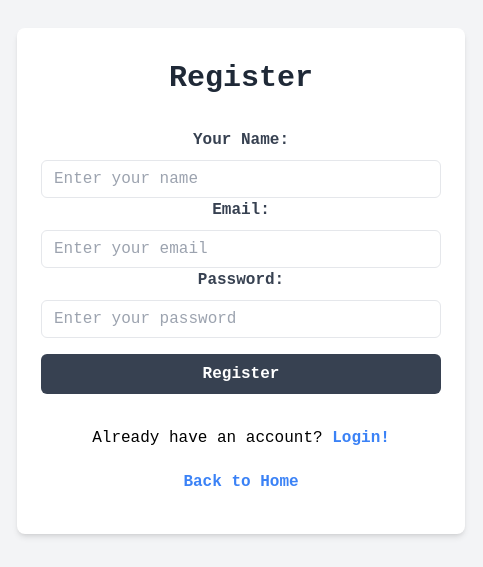
Test: Recipe_Finder › SignupForm › signup with existing email
The width and height of the screenshot is (483, 567).
Type "John Doe" into the field named "name".
click(241, 179); type("John Doe")  # box [41,160,441,198]
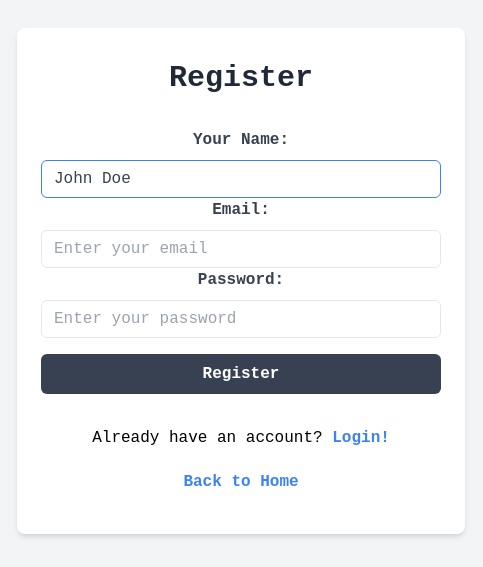
Type "john@example.com" into the field named "email".
click(241, 249); type("john@example.com")  # box [41,230,441,268]
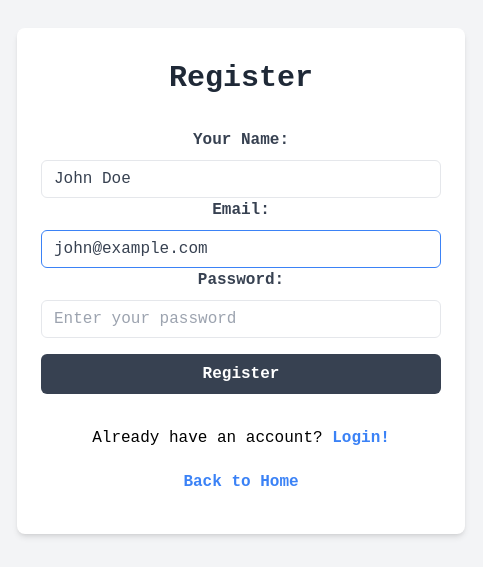
Type "password123" into the password field named "password".
click(241, 319); type("password123")  # box [41,300,441,338]
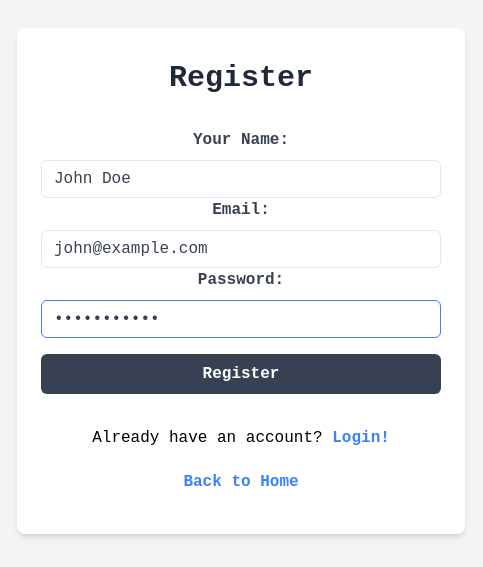
Click the button "Register".
click(241, 374)  # box [41,354,441,394]
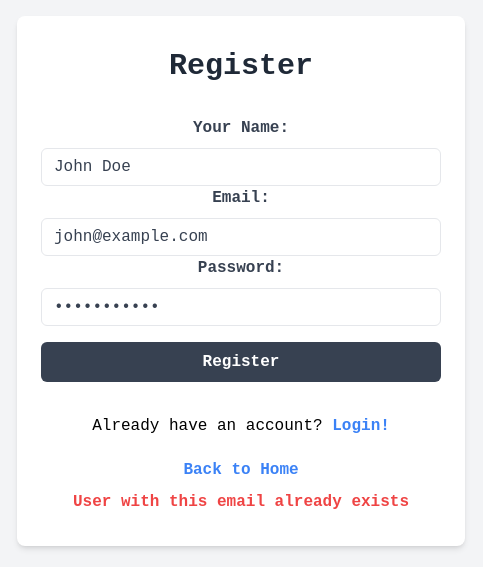
Now the text "User with this email already exists" is shown, box [73,493,409,511]
